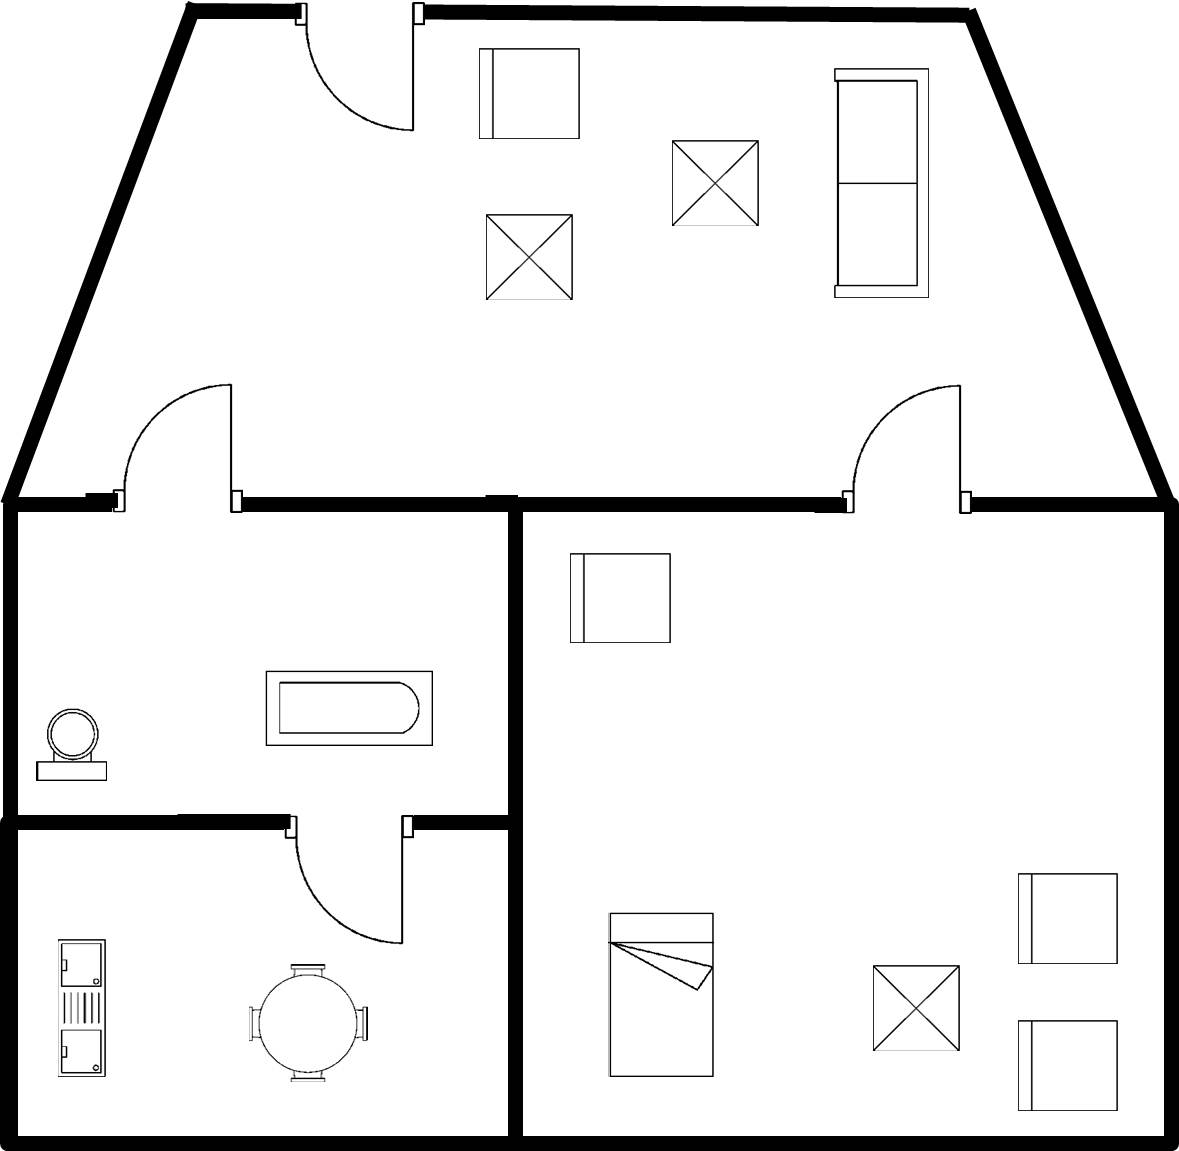bed: (596, 901, 726, 1094)
coffee_table: (475, 202, 582, 313), (661, 132, 769, 234), (866, 958, 967, 1059)
large_sink: (29, 702, 116, 791)
large_sofa: (824, 58, 939, 307)
round_table: (239, 958, 379, 1093)
small_sofa: (560, 542, 683, 658), (1008, 1011, 1129, 1121), (469, 41, 592, 150), (1007, 866, 1126, 976)
tub: (257, 660, 441, 757)
twin_sink: (47, 928, 116, 1087)
